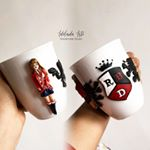cups: (67, 36, 150, 124), (1, 40, 71, 122)
